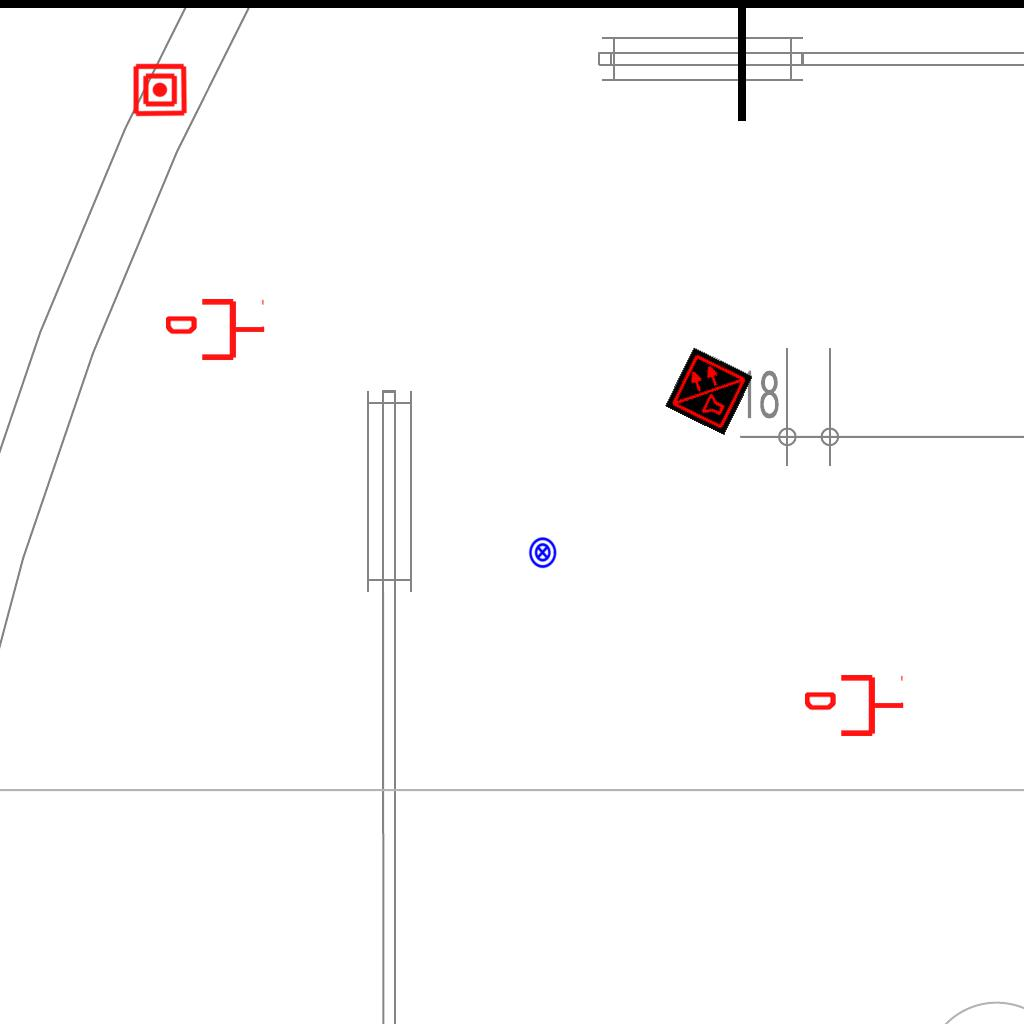Datenanschluss_einfach: (805, 671, 905, 740), (166, 295, 266, 364)
NAM-Nichtautomatischer_Melder: (132, 62, 188, 118)
OKW_Multisensormelder_(Kombination_optischer_Rauch-Kahlenmonoxid_Waerme-Melder): (664, 346, 754, 436)
Taster_beleuchtet: (526, 536, 559, 569)
